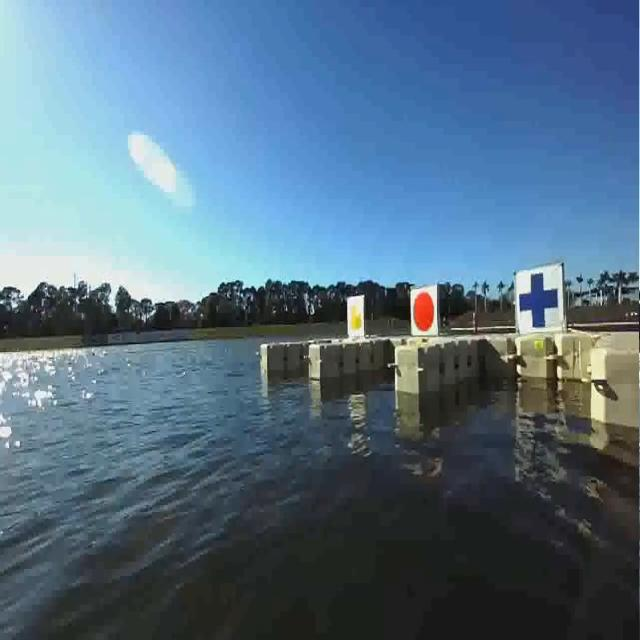blue-cross: (511, 258, 567, 336)
red-dot: (404, 275, 441, 339)
yellow-duck: (345, 290, 369, 342)
